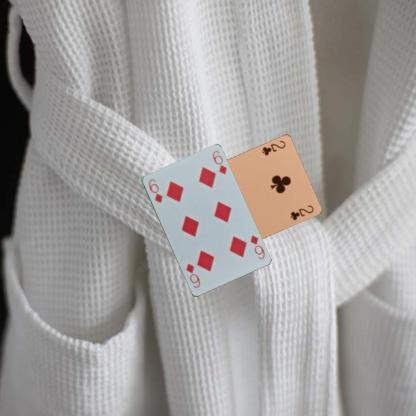2c: (260, 138, 286, 157)
6d: (247, 232, 266, 261), (146, 176, 164, 204)
